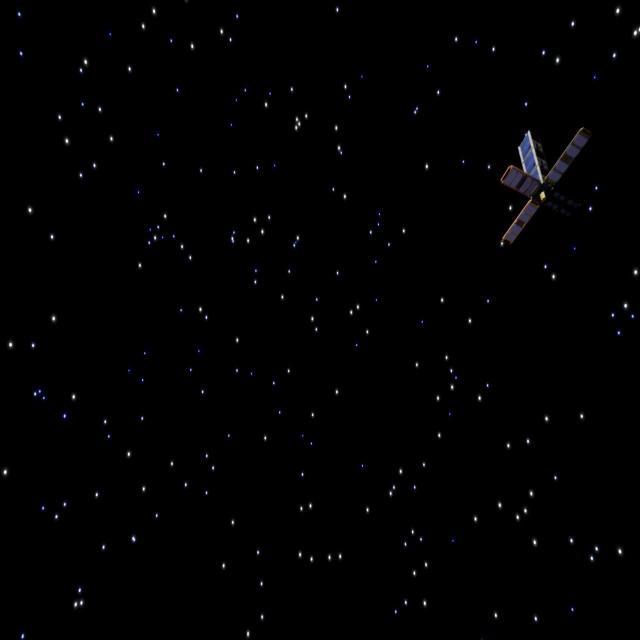satellite: (491, 116, 595, 249)
